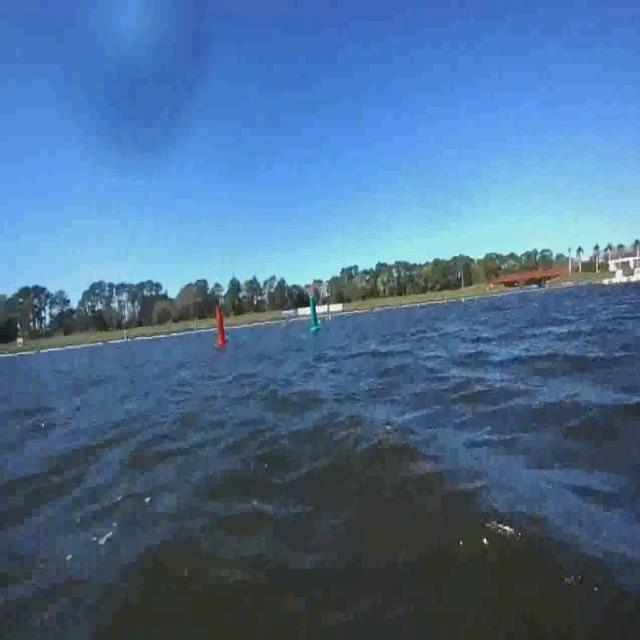green-column-buoy: (304, 290, 324, 337)
red-column-buoy: (208, 281, 231, 355)
